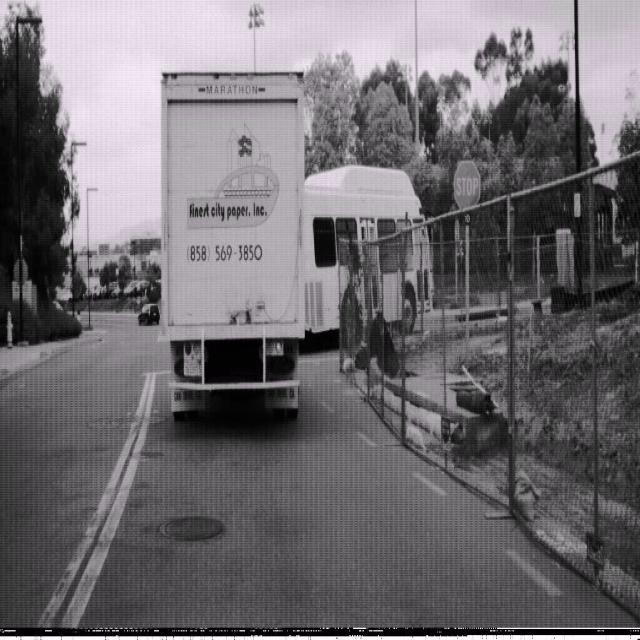stop_sign: (453, 158, 481, 212)
